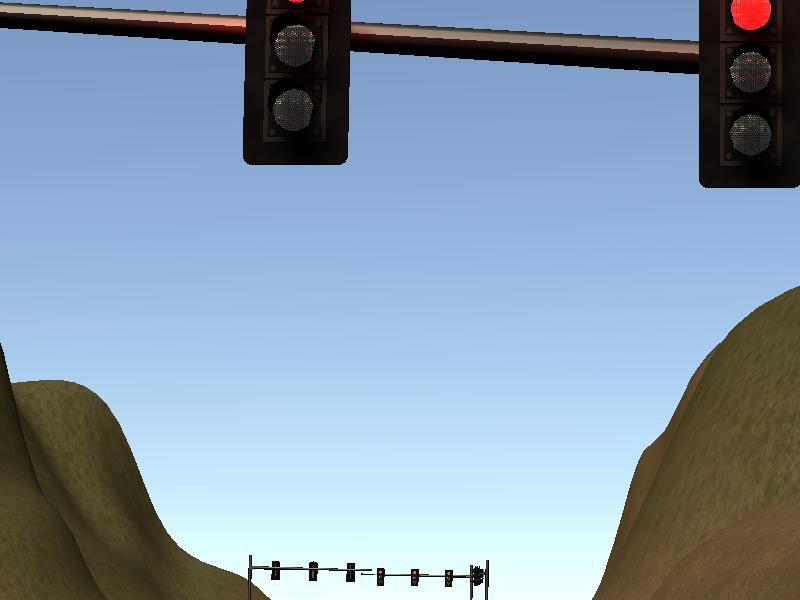Red: (696, 1, 800, 193), (442, 568, 456, 591), (409, 566, 420, 589), (374, 566, 385, 588)
